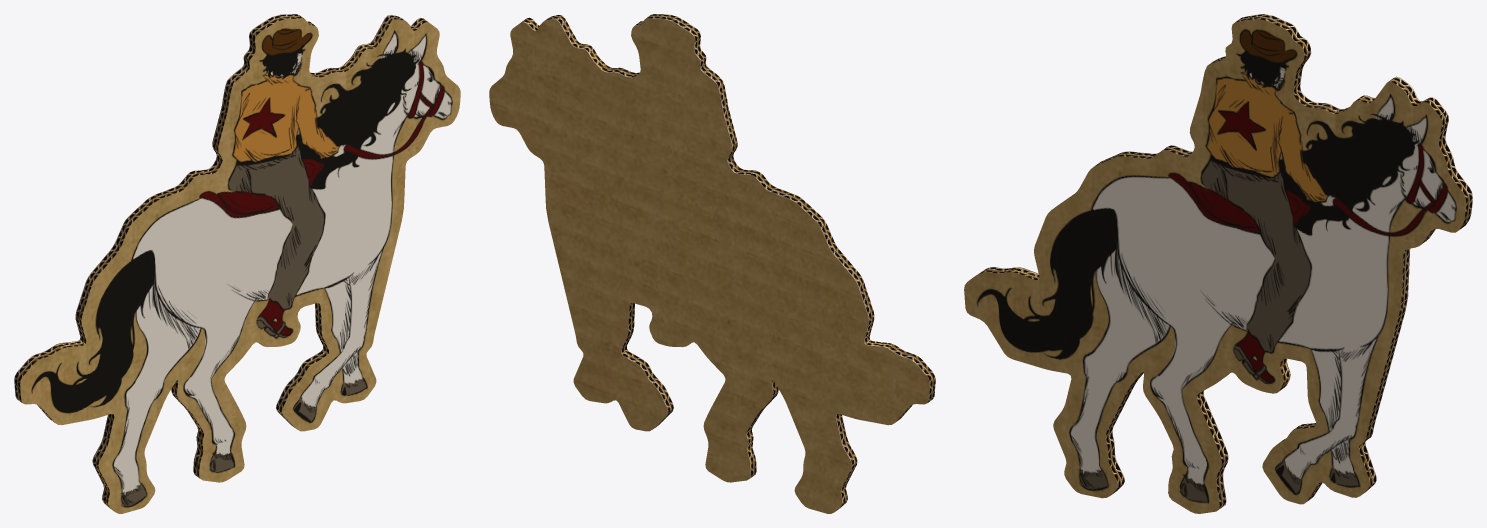
The model's file is cavalier.fbx.
3 renders of one model, left to right at view 1: azimuth 30°, elevation 25°; view 2: azimuth 150°, elevation 25°; view 3: azimuth 330°, elevation 25°, orthographic. The views are drawn at different scales.
Parts seen in each view (by area): view 1: cavalier; view 2: cavalier; view 3: cavalier.
Part boxes in pixels (<box>): cavalier: <box>14,14,460,513</box>; cavalier: <box>489,14,935,513</box>; cavalier: <box>964,14,1472,513</box>.
Size of the model in its own units: 51.44 by 50.76 by 1.2.
